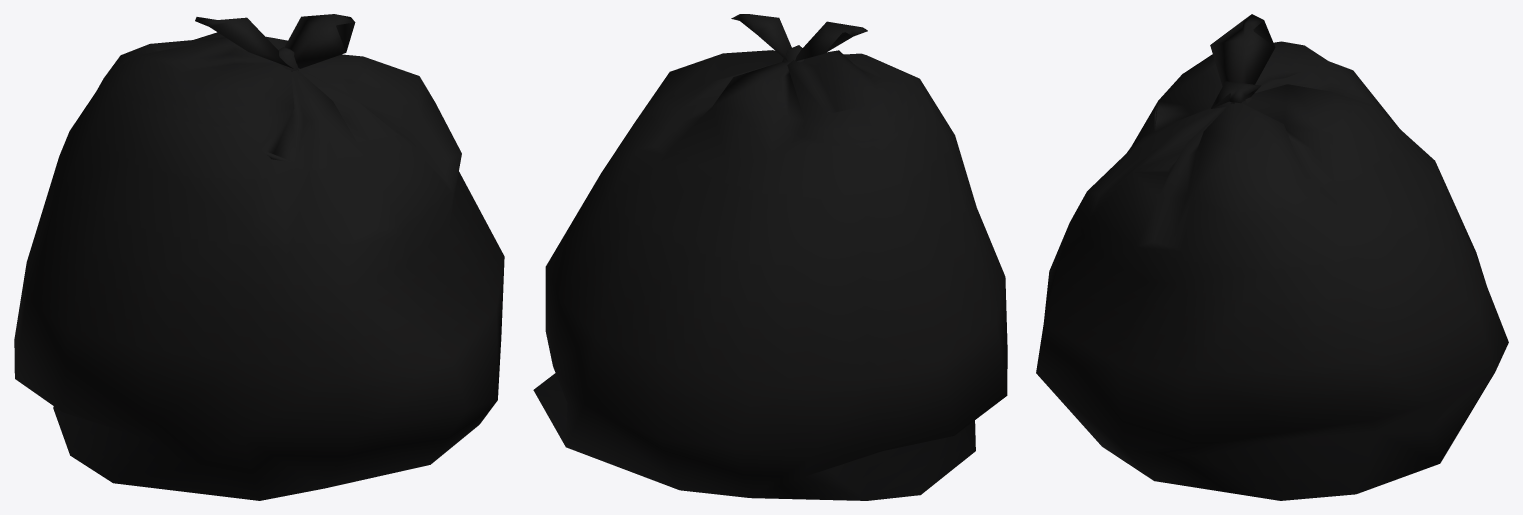
Rendered from x_trash_bag.fbx.
3 views of the same model, side by side, from view 1: azimuth 30°, elevation 25°; view 2: azimuth 150°, elevation 25°; view 3: azimuth 270°, elevation 25° (orthographic). The views are drawn at different scales.
Parts seen in each view (by area): view 1: t_trash_bag_baked; view 2: t_trash_bag_baked; view 3: t_trash_bag_baked.
Part boxes in pixels (x1=…): t_trash_bag_baked: x1=14, y1=14, x2=504, y2=500; t_trash_bag_baked: x1=533, y1=14, x2=1007, y2=500; t_trash_bag_baked: x1=1036, y1=14, x2=1508, y2=500.
Size of the model in its own units: 1.5 by 1.48 by 1.59.
